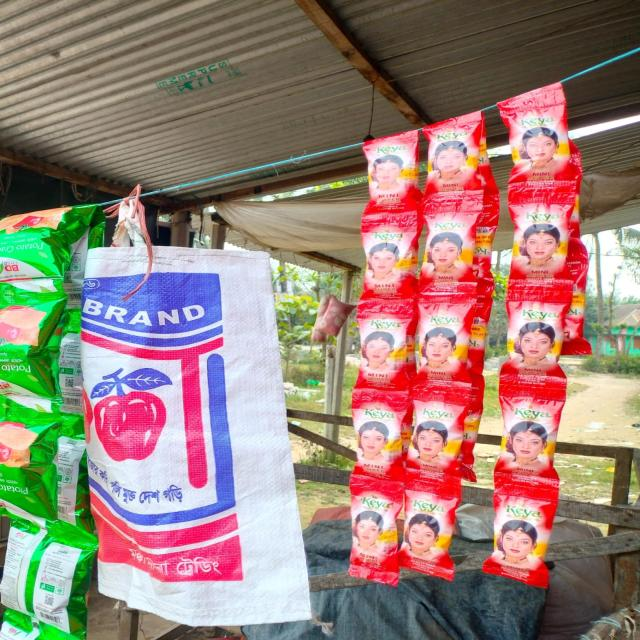non-ubl: (495, 80, 577, 194), (495, 386, 565, 482), (506, 199, 579, 286), (347, 475, 402, 585), (502, 298, 568, 384), (491, 486, 545, 588), (428, 132, 492, 212), (400, 478, 449, 582), (407, 397, 470, 477), (419, 218, 480, 294), (348, 403, 406, 480), (414, 297, 476, 367), (364, 140, 417, 218), (354, 311, 415, 374), (361, 229, 412, 296)
